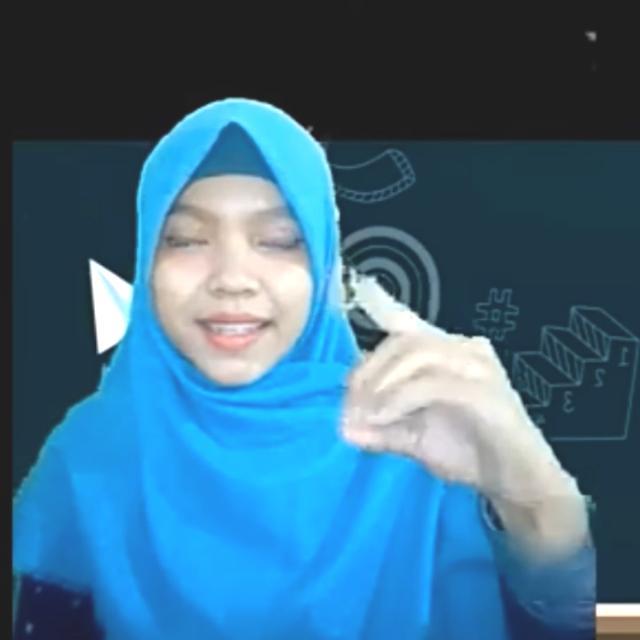D: (344, 278, 546, 492)
